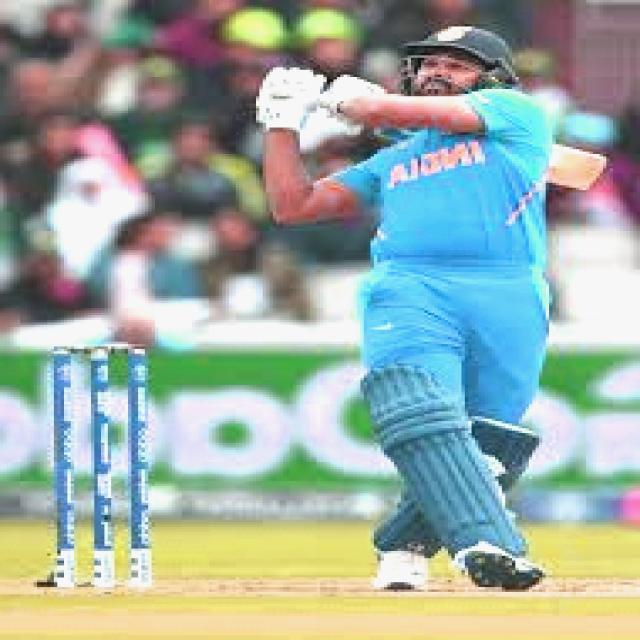toe: (562, 148, 606, 206)
